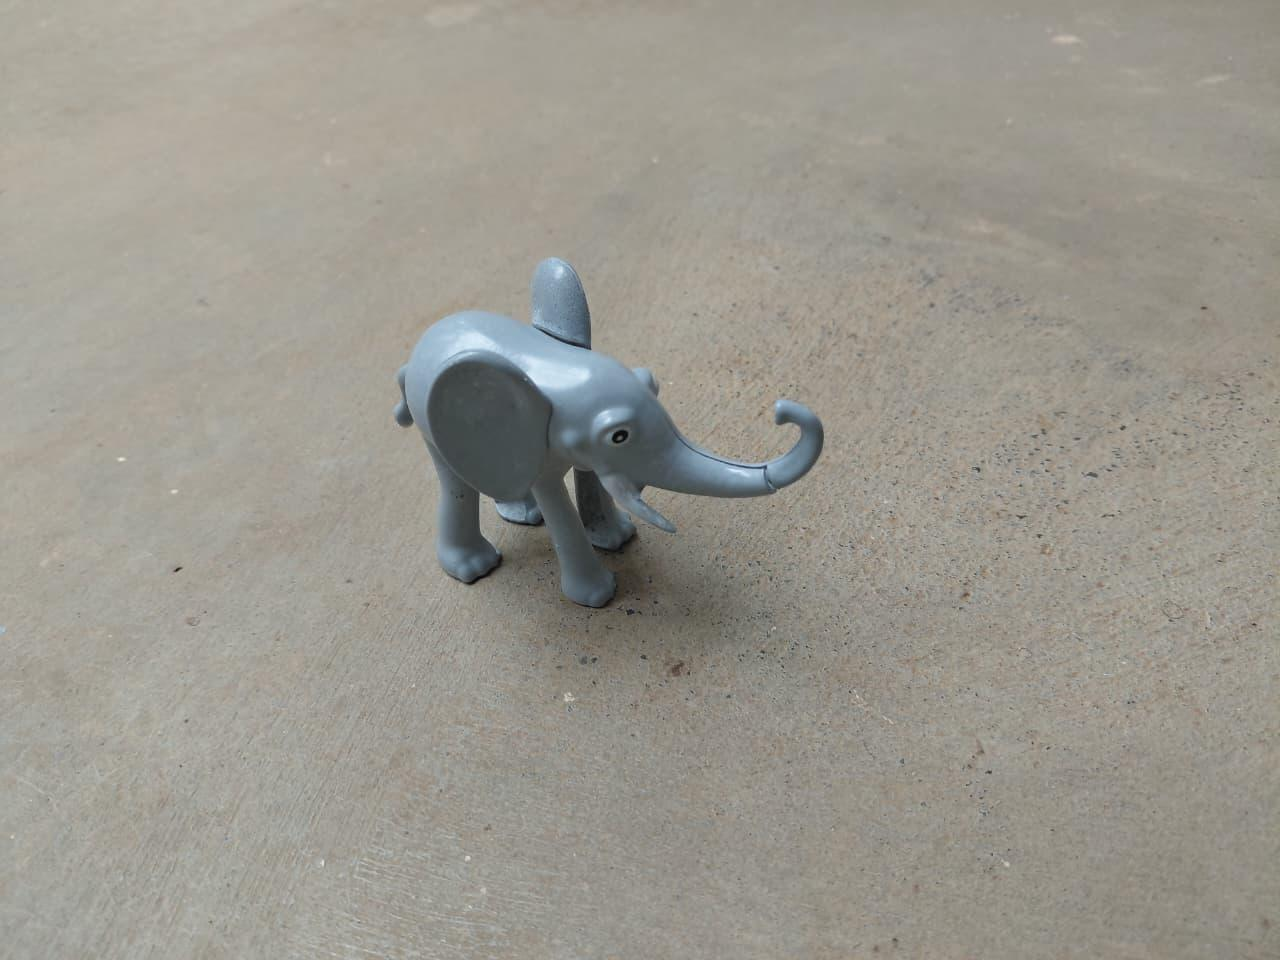elephant: (368, 252, 836, 612)
